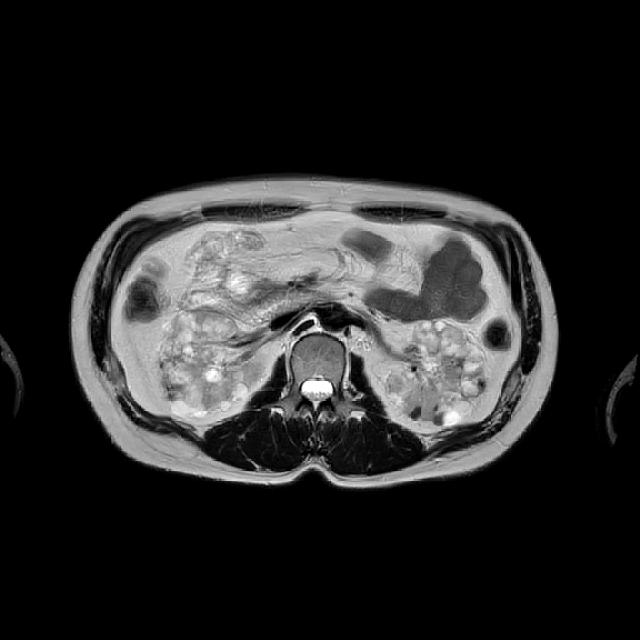sag: (157, 313, 263, 421)
sol: (388, 319, 489, 424)
